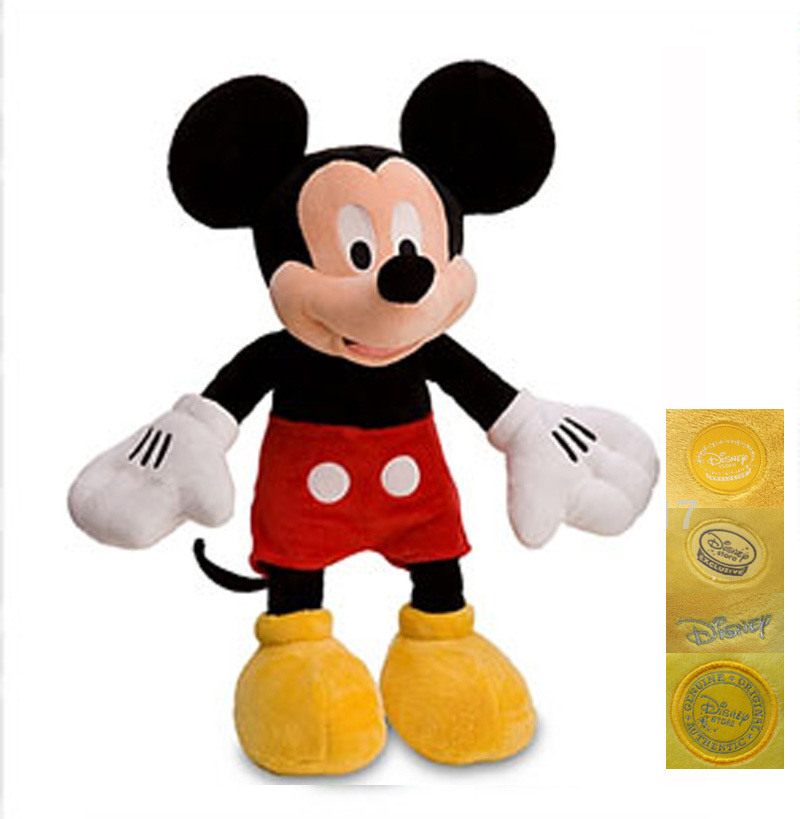Mickey: (159, 60, 560, 365)
